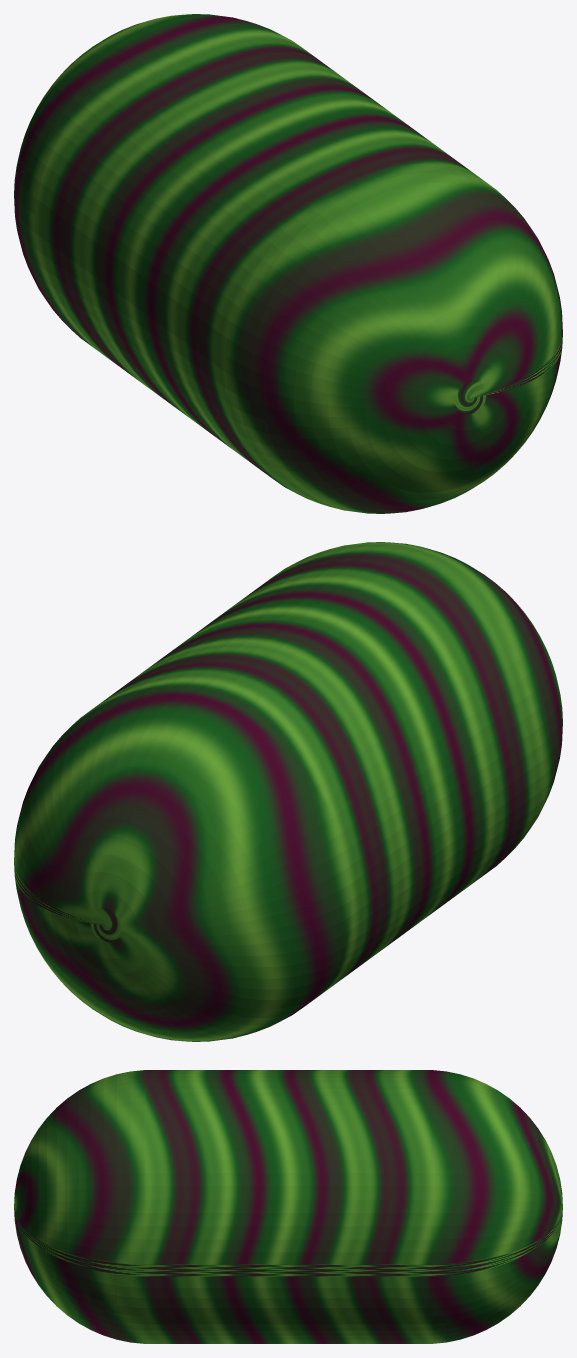
The model's file is capsule-forest-c1.glb.
3 renders of one model, top to bottom at view 1: azimuth 30°, elevation 25°; view 2: azimuth 150°, elevation 25°; view 3: azimuth 270°, elevation 25°, orthographic. The views are drawn at different scales.
Parts seen in each view (by area): view 1: world; view 2: world; view 3: world.
Part boxes in pixels (bbox=[...]): world: bbox=[14, 14, 562, 513]; world: bbox=[14, 542, 562, 1041]; world: bbox=[14, 1070, 562, 1343].
Bounding box in the file's own units: 0.6991 × 0.6991 × 1.4.
Materials: 1 (1 with a texture image).
